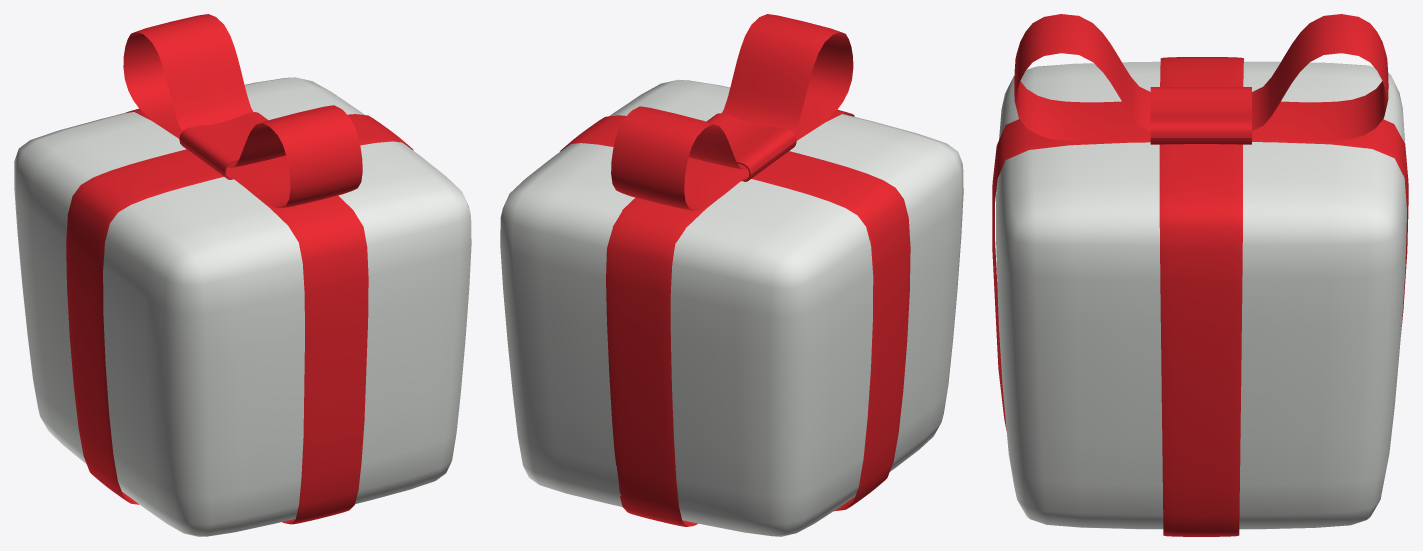
Rendered from bNw5rJmGqrr7lD+P.glb.
3 renders of one model, left to right at view 1: azimuth 30°, elevation 25°; view 2: azimuth 150°, elevation 25°; view 3: azimuth 270°, elevation 25°, orthographic. The views are drawn at different scales.
Visible parts, largest first — view 1: Box, Box2; view 2: Box, Box2; view 3: Box, Box2.
Boxes of the visible parts, x1,y1,x2,y2 form: Box: (14, 77, 471, 536); Box2: (66, 14, 413, 524); Box: (500, 79, 963, 536); Box2: (560, 14, 910, 526); Box: (996, 61, 1406, 529); Box2: (992, 14, 1408, 536).
Bounding box in the file's own units: 2.17 × 2.61 × 2.22.
